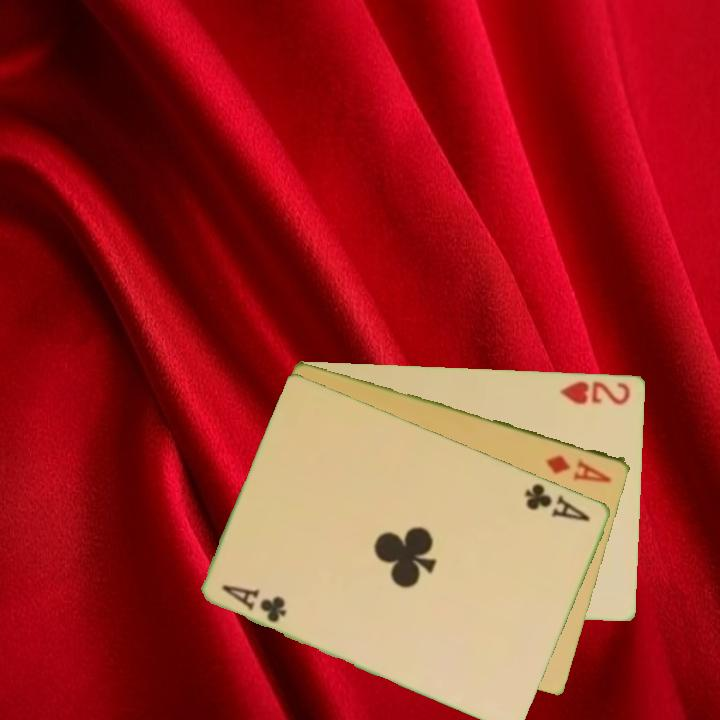2h: (557, 377, 634, 407)
Ac: (521, 479, 594, 525), (218, 581, 291, 626)
Ad: (543, 451, 615, 486)
